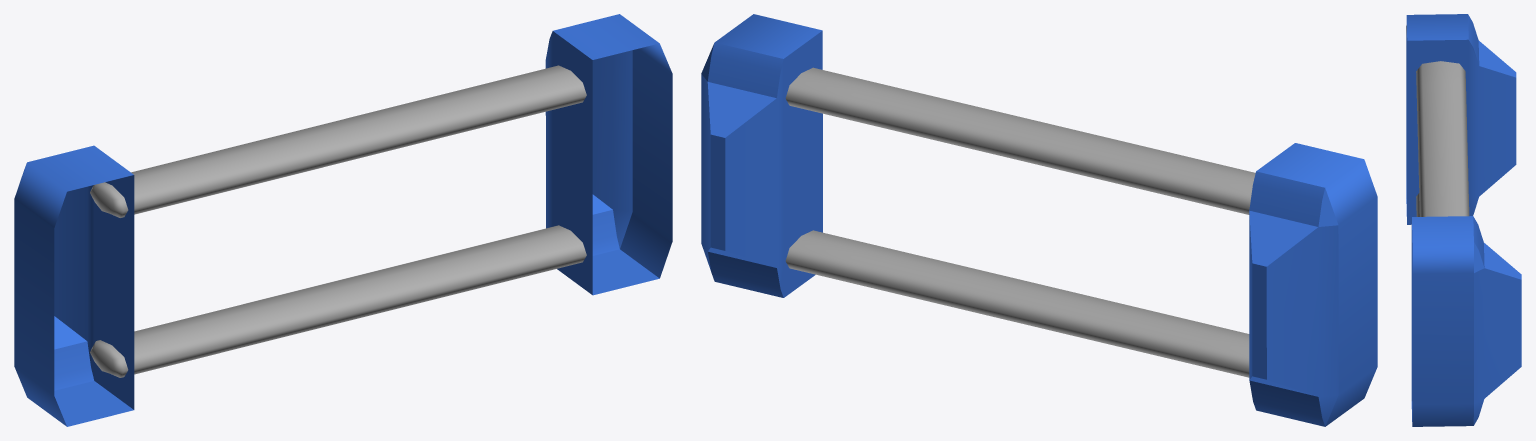
The model's file is Long tube light.fbx.
3 renders of one model, left to right at view 1: azimuth 30°, elevation 25°; view 2: azimuth 150°, elevation 25°; view 3: azimuth 270°, elevation 25°, orthographic. The views are drawn at different scales.
Parts seen in each view (by area): view 1: polySurface27; view 2: polySurface27; view 3: polySurface27.
Part boxes in pixels (x1,y1,x2,y2): polySurface27: (14,14,672,426); polySurface27: (701,14,1377,426); polySurface27: (1406,14,1521,426).
Bounding box in the file's own units: 69.97 × 25.33 × 14.34.
